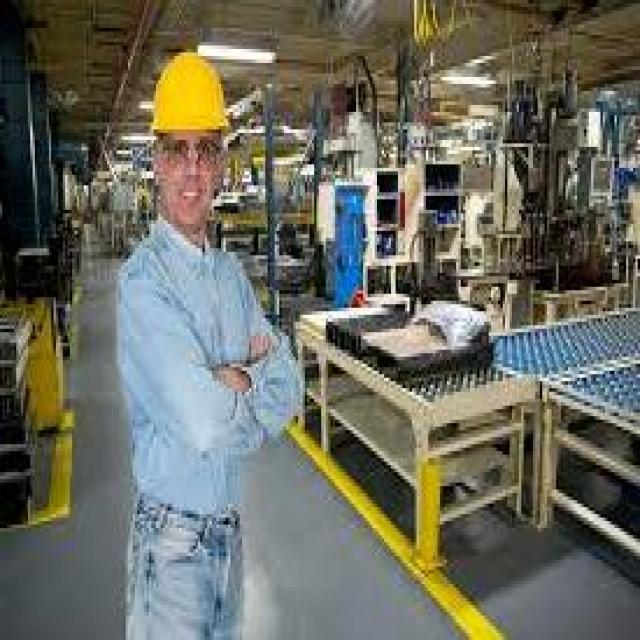Safety-Helmet: (137, 42, 240, 157)
